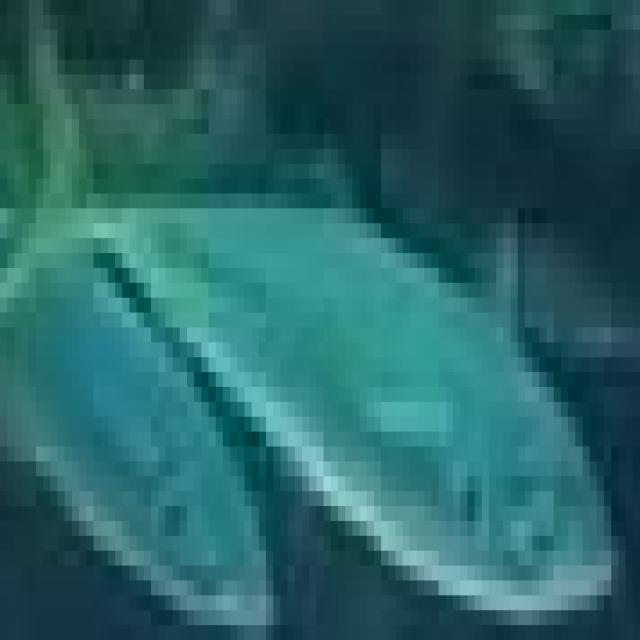fish: (7, 0, 640, 625)
